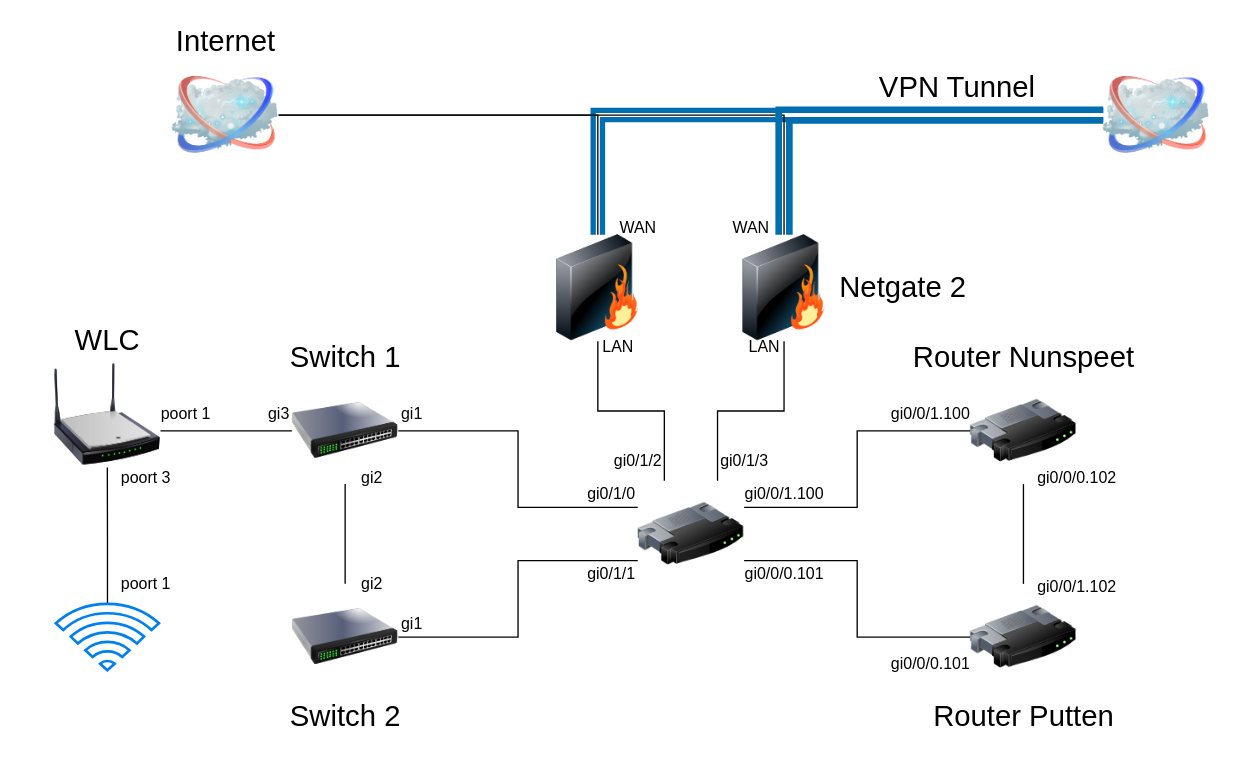
Some shapes in this 1233 by 757 pixel diagram are drawn without their labels. Each missing label, with the centre of its shape:
Access Point: pixel 107 636
Azure: pixel 1156 114
Netgate 1: pixel 597 287
Router Harderwijk: pixel 690 533
